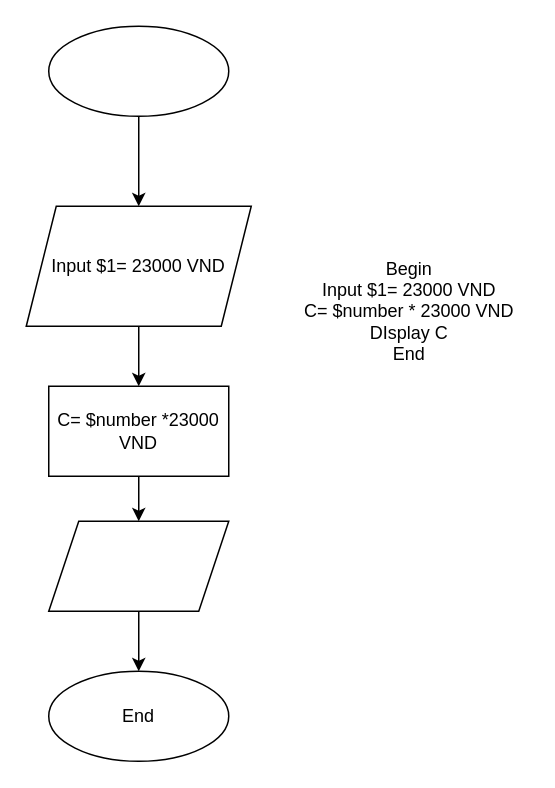
This 555x788 diagram has some shape labels left out. Each missing label, with the centre of its shape:
"Begin" goes at [138,70].
"Display C" goes at [138,565].
